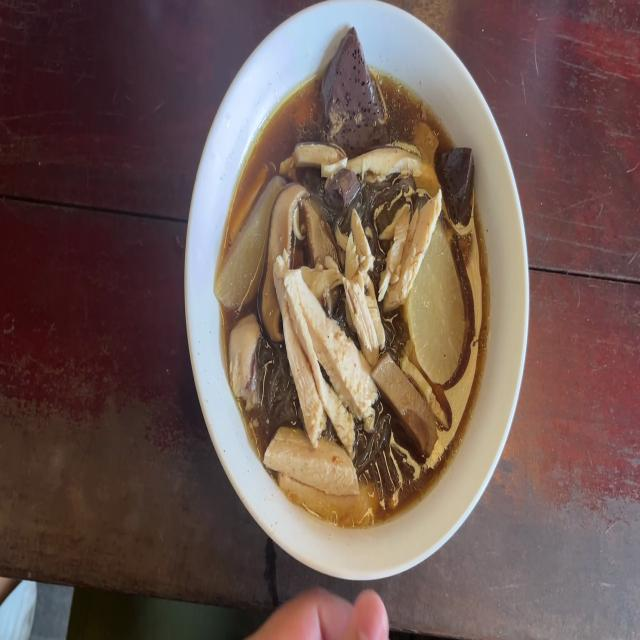noodle: (325, 34, 379, 153), (444, 138, 474, 212), (322, 169, 363, 222)
